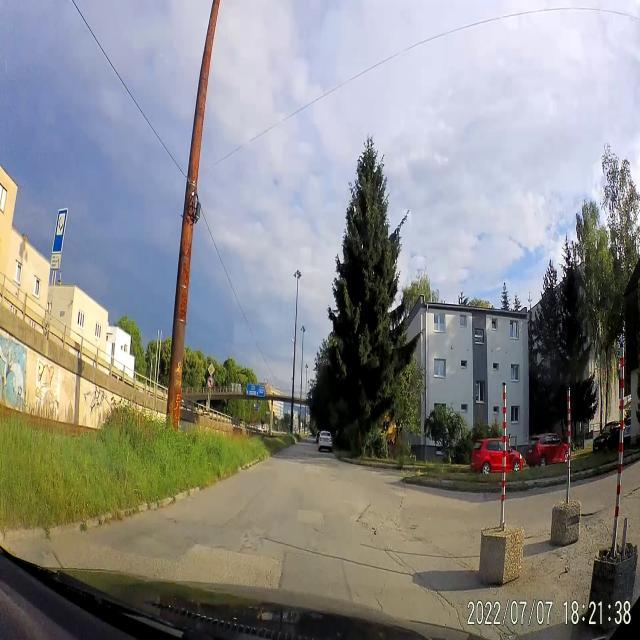Manhole: (296, 504, 330, 528)
Pothole: (356, 520, 381, 542)
